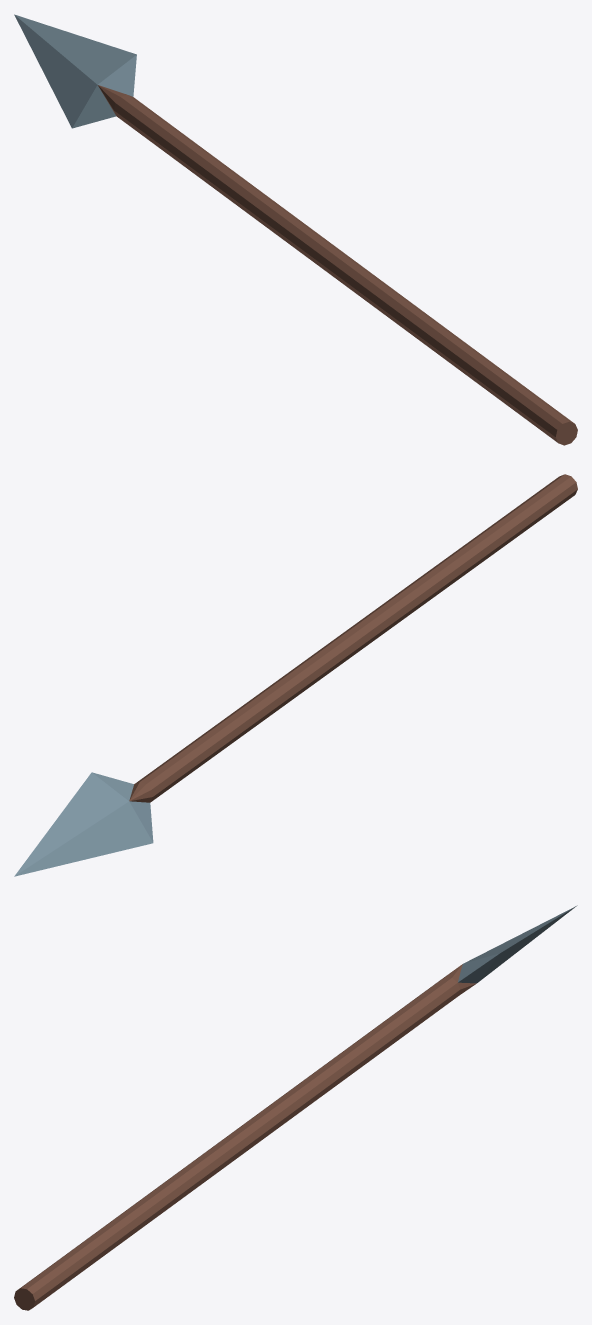
Rendered from projectile_02.glb.
3 renders of one model, top to bottom at view 1: azimuth 30°, elevation 25°; view 2: azimuth 150°, elevation 25°; view 3: azimuth 330°, elevation 25°, orthographic. The views are drawn at different scales.
Parts seen in each view (by area): view 1: group882368150; view 2: group882368150; view 3: group882368150.
Part boxes in pixels (bbox=[...]): group882368150: bbox=[14, 14, 577, 445]; group882368150: bbox=[14, 474, 577, 876]; group882368150: bbox=[14, 905, 577, 1310].
Size of the model in its own units: 0.0524 by 0.0451 by 0.7928.
